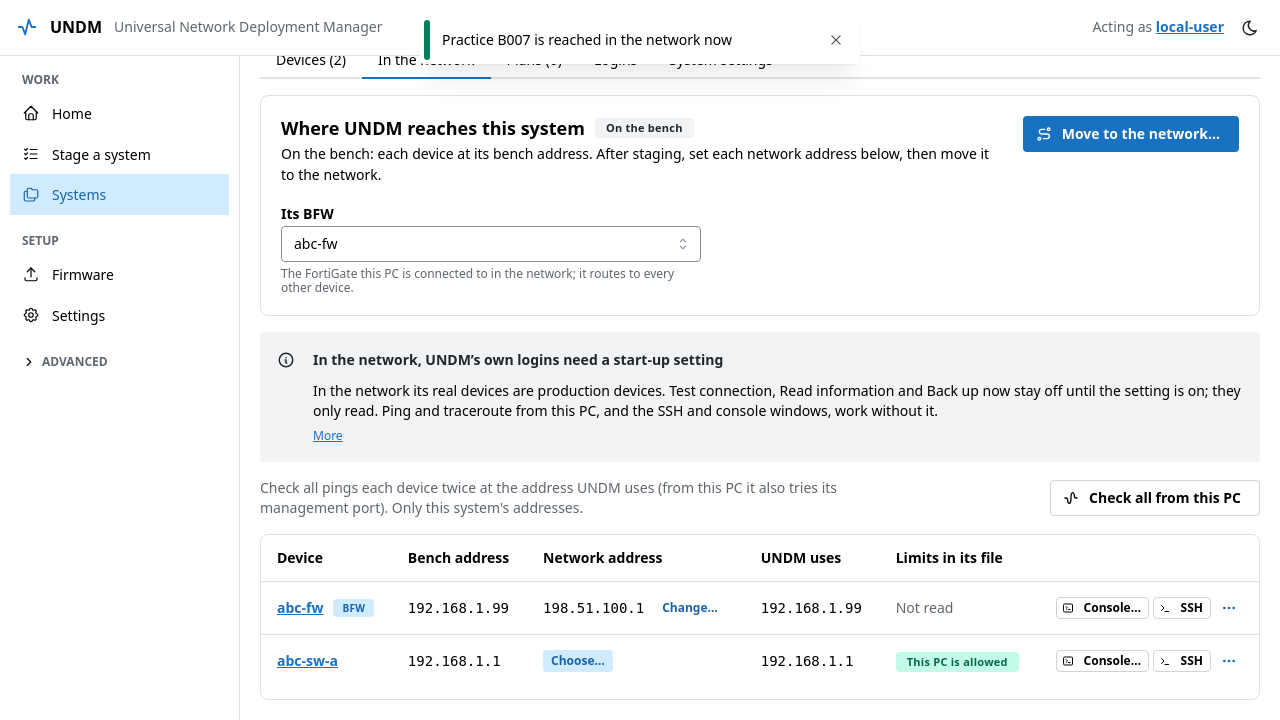
Test: after staging: the system in the network (D-125) › the network address is chosen from its file, with the file and line kept
Later steps or results of the test are not shown.
(page scrolled)
Click the button with aria-label "Choose the network address of abc-sw-a from its file" at (578, 661), box [543,650,613,672]
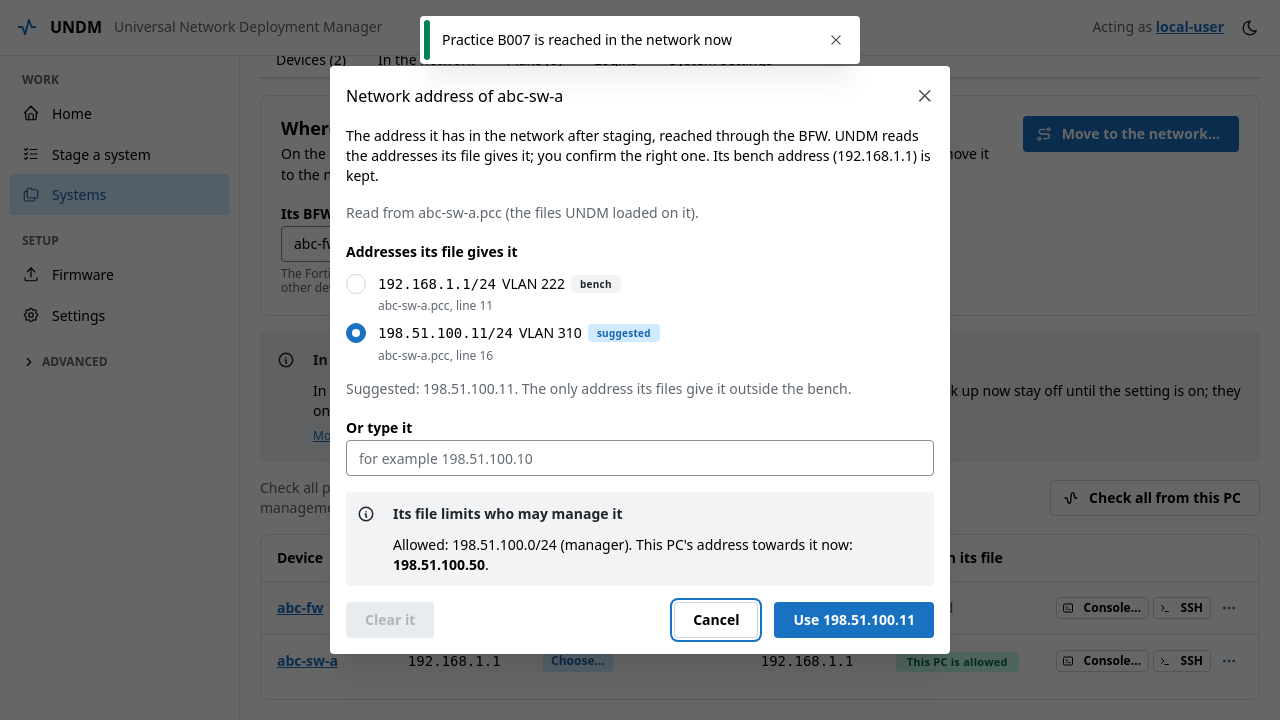
Check: the text "suggested" is shown, box [597,325,651,341]
Check: the text "abc-sw-a.pcc, line 16" is shown, box [378,347,493,364]
Check: the text "This PC's address towards it now" is shown, box [632,535,853,554]
